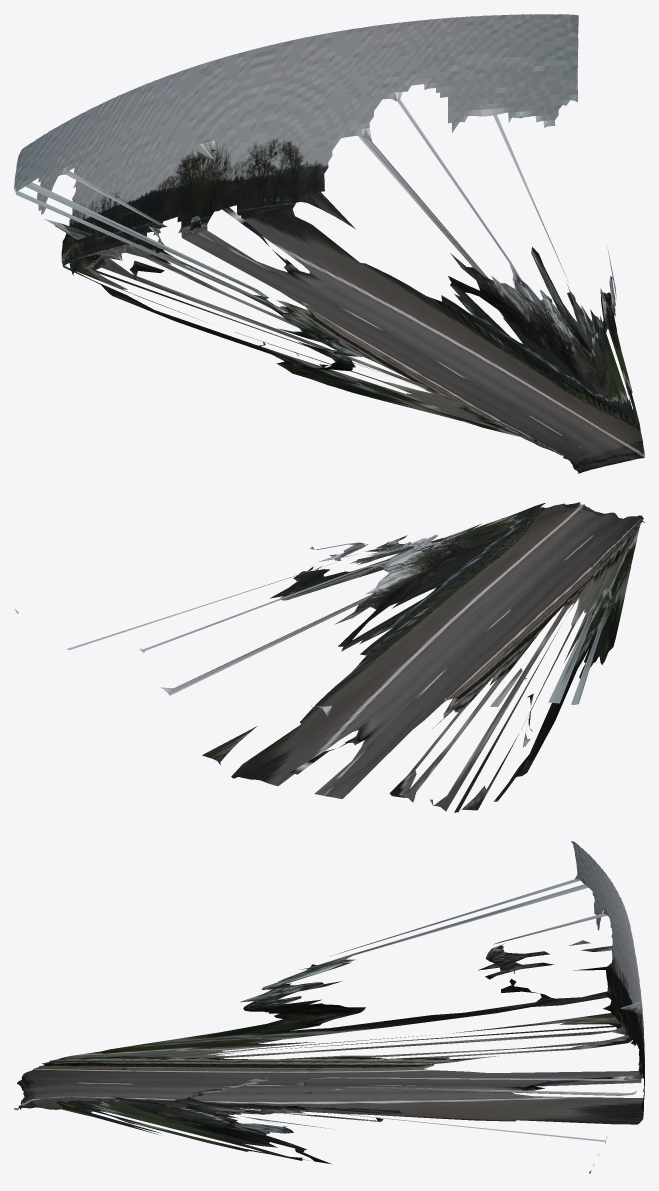
3 renders of one model, top to bottom at view 1: azimuth 30°, elevation 25°; view 2: azimuth 150°, elevation 25°; view 3: azimuth 270°, elevation 25°, orthographic. The views are drawn at different scales.
Visible parts, largest first — view 1: defaultobject; view 2: defaultobject; view 3: defaultobject.
Part boxes in pixels (x1,y1,x2,y2): defaultobject: (14,14,644,473); defaultobject: (15,502,644,812); defaultobject: (14,841,644,1173).
Bounding box in the file's own units: 40.97 × 12.46 × 44.68.
Materials: 1 (1 with a texture image).
